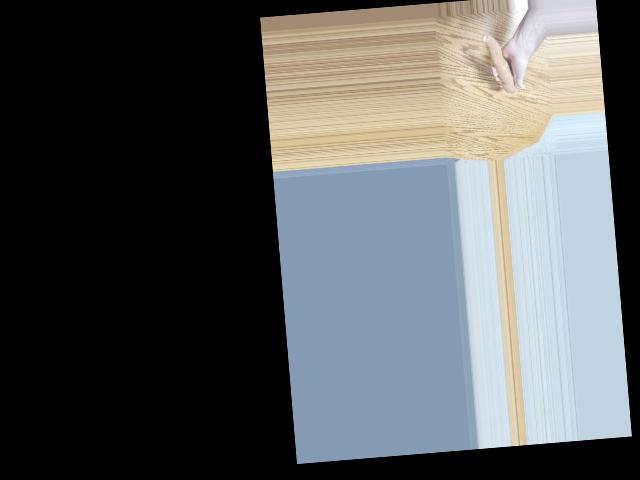sweet_potato: (483, 31, 517, 95)
